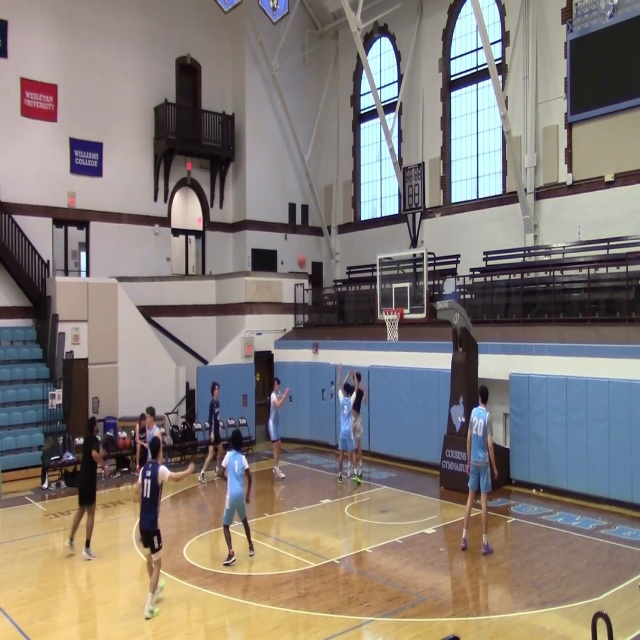Basketball: (297, 255, 306, 268)
